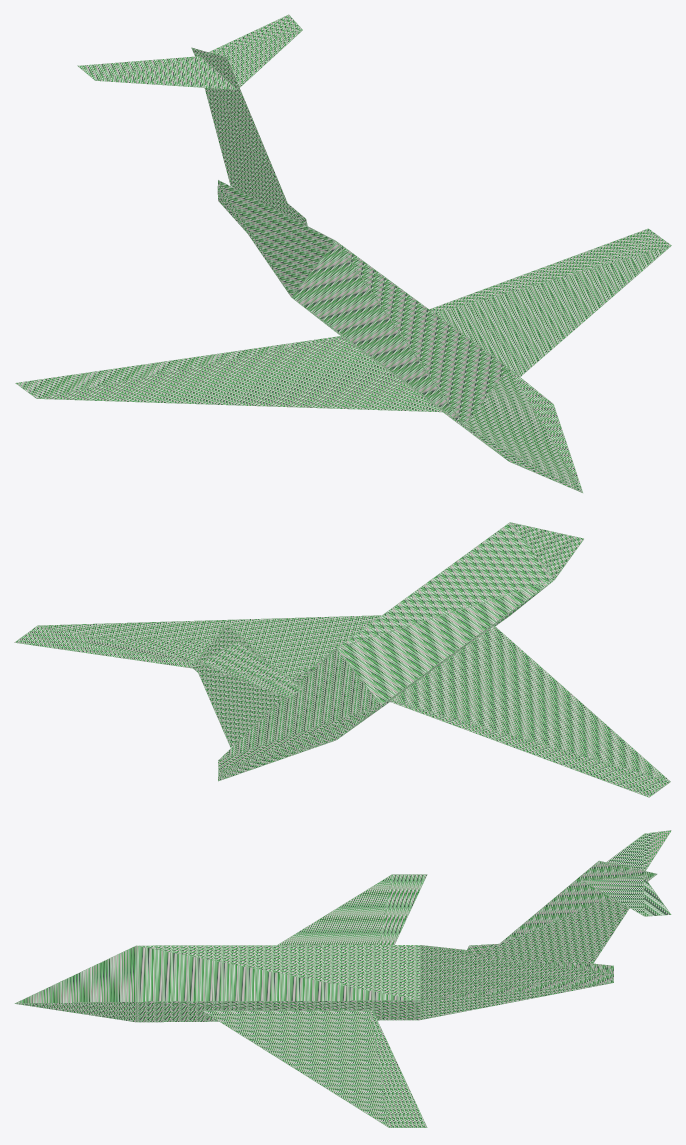
Rendered from JBAI Challenger 604 MSFS_LOD1.gltf.
The picture shows the model from 3 angles, top to bottom: view 1: azimuth 30°, elevation 25°; view 2: azimuth 150°, elevation 25°; view 3: azimuth 270°, elevation 25°; orthographic projection. The views are drawn at different scales.
Visible parts, largest first — view 1: node1; view 2: node1; view 3: node1.
Boxes of the visible parts, x1=… form: node1: x1=15, y1=14, x2=671, y2=492; node1: x1=14, y1=522, x2=670, y2=797; node1: x1=14, y1=830, x2=671, y2=1127.
Bounding box in the file's own units: 18.8 × 5.6 × 20.57.
